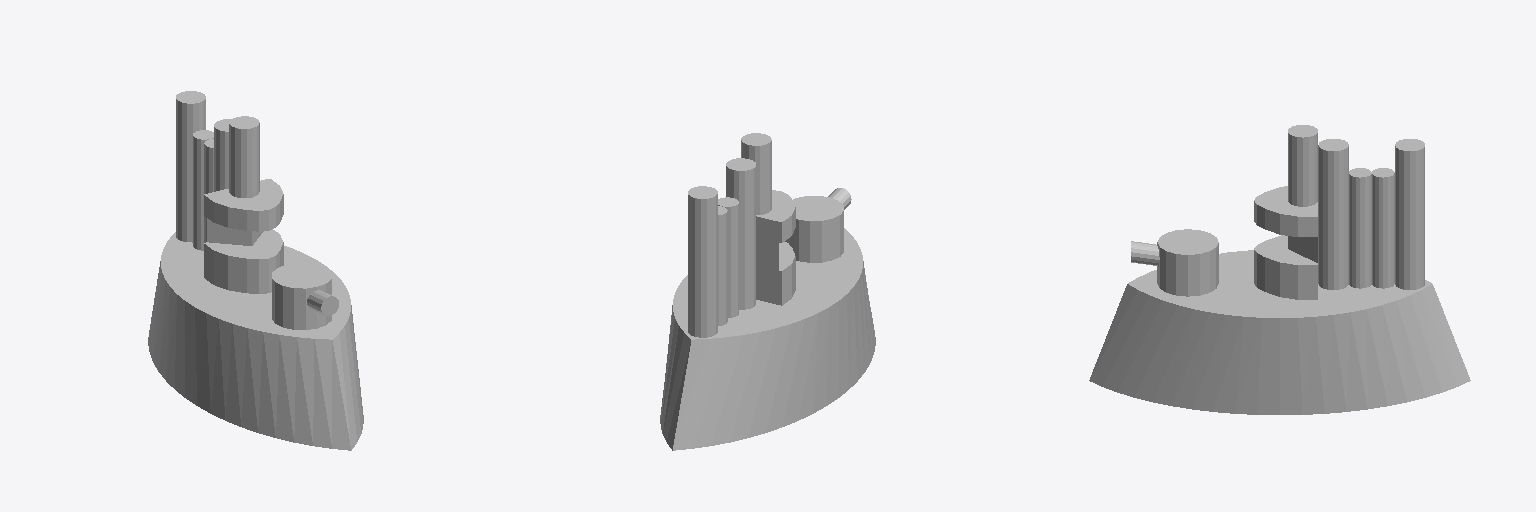
Rendered from Boat.obj.
3 renders of one model, left to right at view 1: azimuth 30°, elevation 25°; view 2: azimuth 150°, elevation 25°; view 3: azimuth 270°, elevation 25°, orthographic.
Parts seen in each view (by area): view 1: Cube; view 2: Cube; view 3: Cube.
Part boxes in pixels (x1,y1,x2,y2): Cube: (148,91,363,450); Cube: (660,133,875,450); Cube: (1089,125,1470,414).
Size of the model in its own units: 1.07 by 1.8 by 2.49.